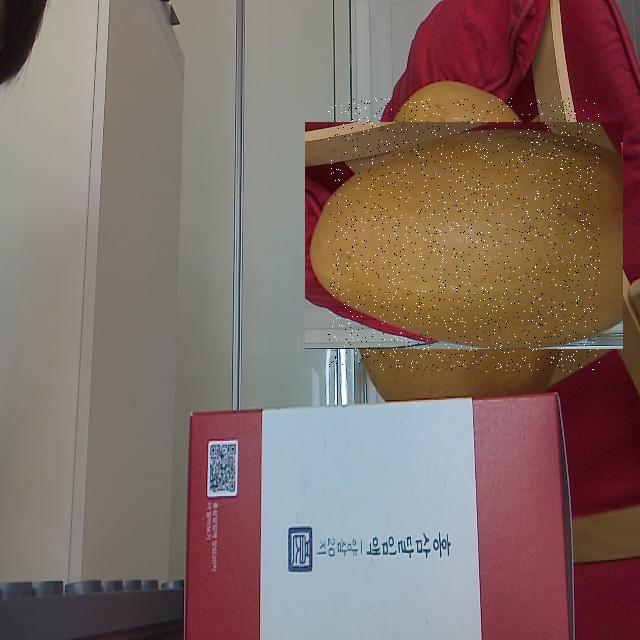pear: (328, 98, 600, 372)
